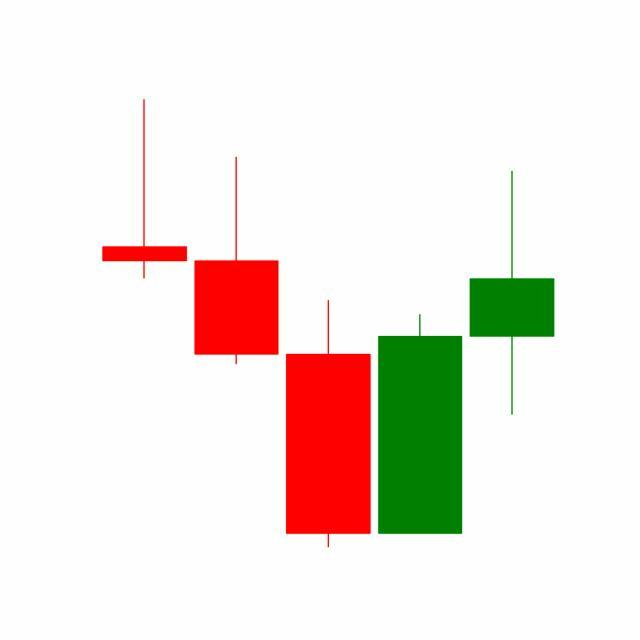Spinning Top: (466, 168, 559, 418)
